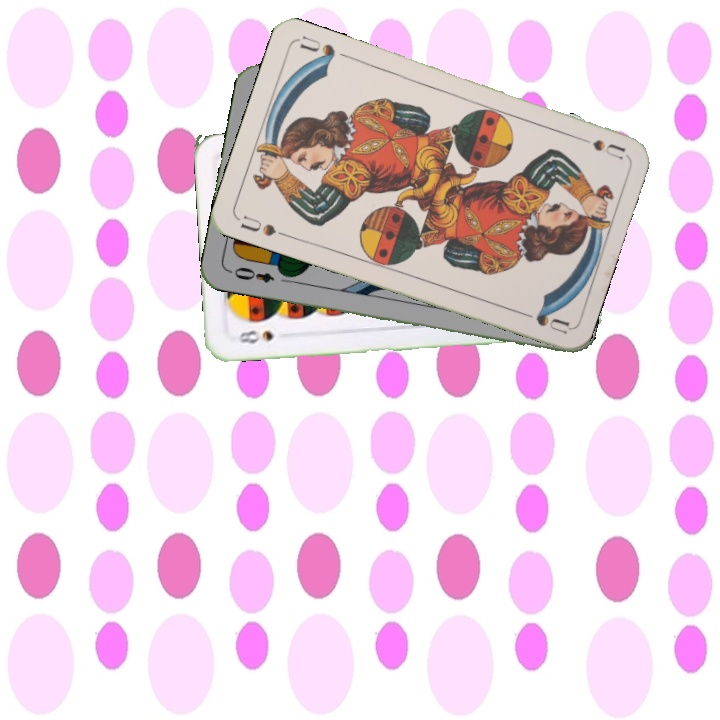EO: (225, 263, 277, 286)
S8: (234, 326, 276, 346)
SU: (569, 131, 628, 162), (234, 211, 292, 240)
